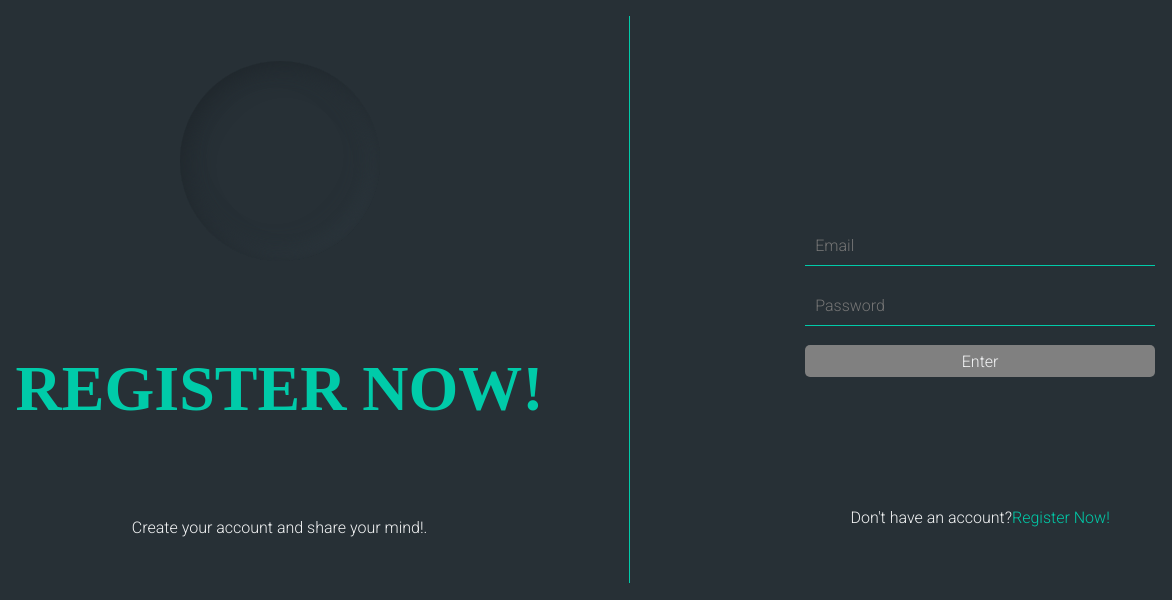
it: <Login/> - Integration - fetch user › should try to auth user with a wrong credentials
Type "test@gmail.com" into the field with placeholder "Email".
click(980, 246); type("test@gmail.com")  # box x1=805 y1=226 x2=1155 y2=266
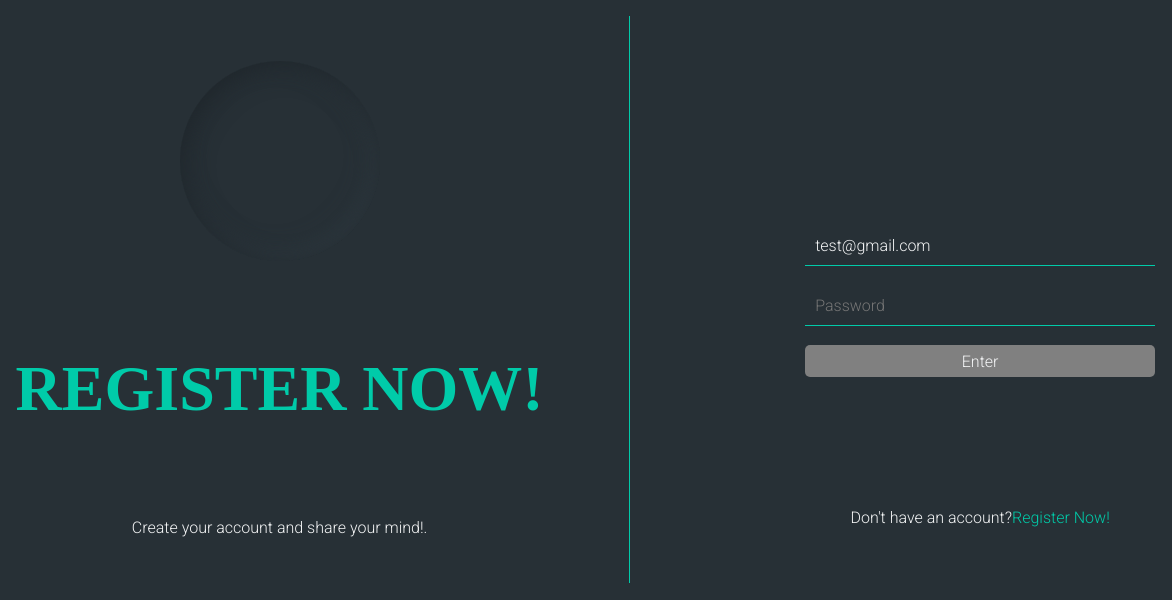
Type "test" into the password field with placeholder "Password".
click(980, 306); type("test")  # box x1=805 y1=286 x2=1155 y2=326
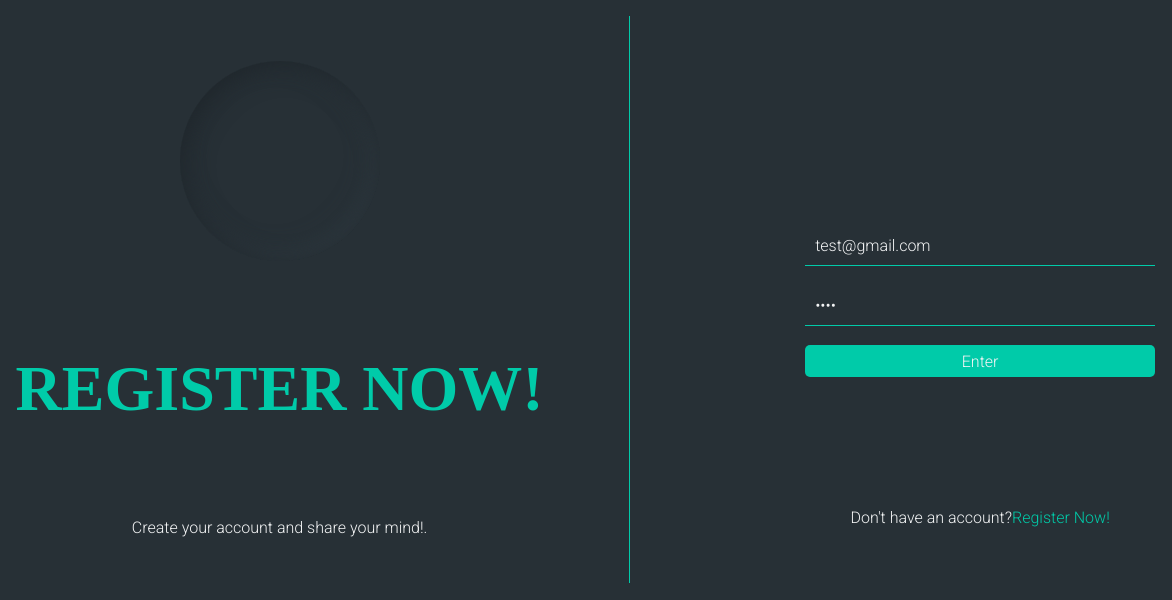
Click the button "Enter".
click(980, 361)  # box x1=805 y1=345 x2=1155 y2=377
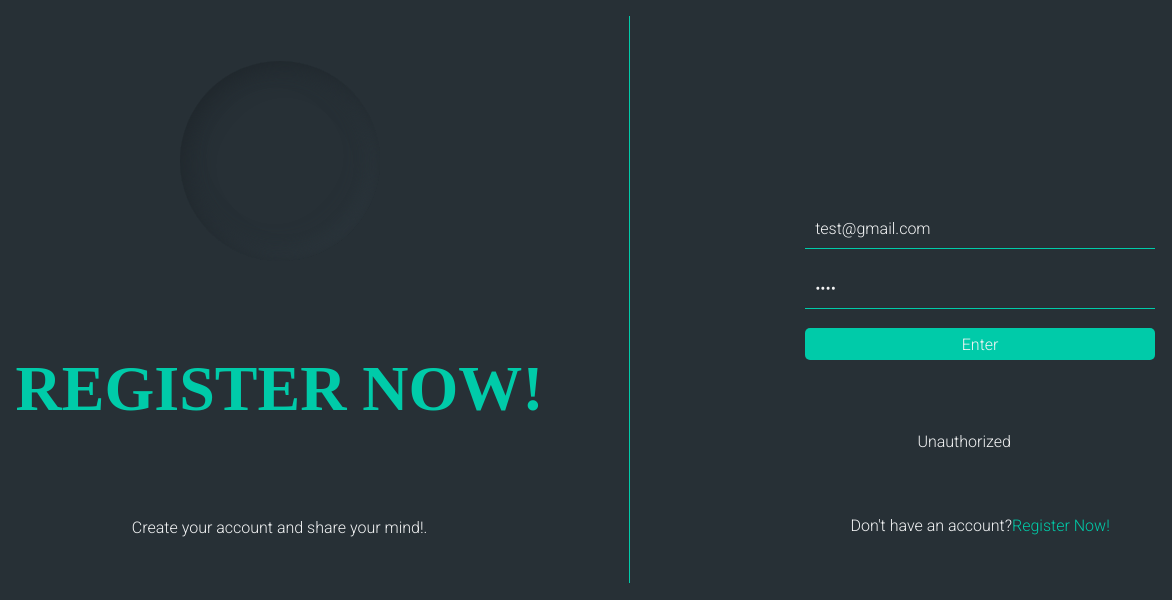
Check: the text "Unauthorized" is shown, box x1=917 y1=432 x2=1011 y2=451
